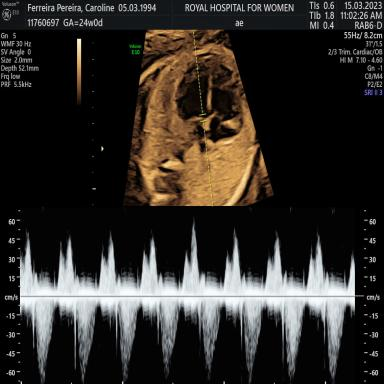Ultrasound-Waves: (27, 211, 354, 383)
